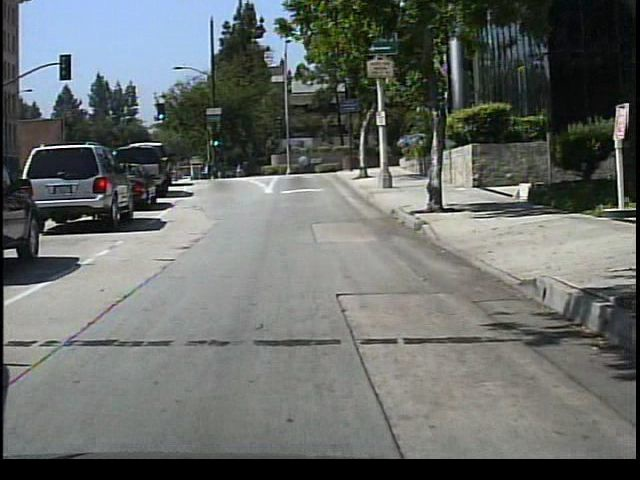person: (205, 157, 220, 181)
